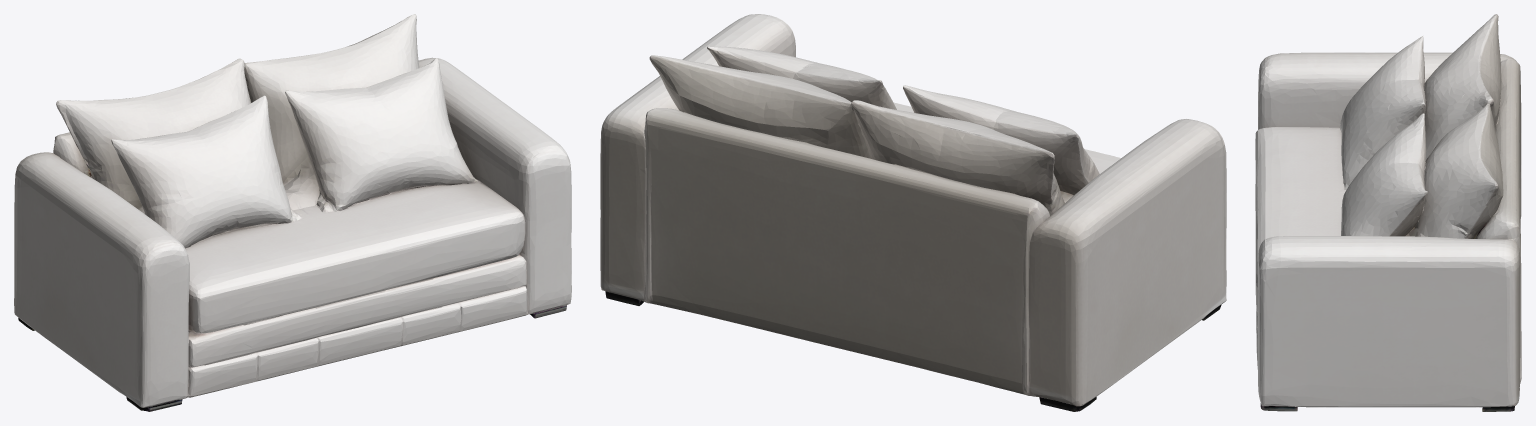
File: SOFA RENNES SORRENTO GREY.glb
3 renders of one model, left to right at view 1: azimuth 30°, elevation 25°; view 2: azimuth 150°, elevation 25°; view 3: azimuth 270°, elevation 25°, orthographic. The views are drawn at different scales.
Visible parts, largest first — view 1: world; view 2: world; view 3: world.
Part boxes in pixels (bbox=[...]): world: bbox=[14, 14, 571, 411]; world: bbox=[600, 14, 1226, 411]; world: bbox=[1255, 14, 1521, 411].
Size of the model in its own units: 1 by 0.4818 by 0.5468.
1 material, 1 textured.
